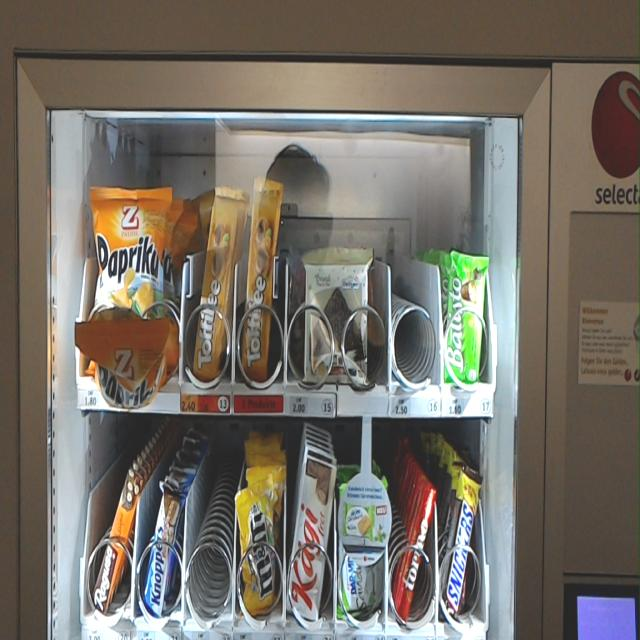balisto_muesli__37g__5000159418546: (443, 248, 485, 386)
berger_bruensli____: (302, 252, 372, 386)
darwida_sandwich____7610032065170: (337, 480, 385, 619)
kagi___50__7610046000259: (286, 458, 335, 618)
knoppers_riegel____4035800488808: (143, 486, 184, 609)
mnms_gelb__45__40111445: (235, 479, 276, 617)
ragusa___50__76401121: (92, 465, 144, 613)
snickers___50__5000159461122: (439, 469, 481, 619)
toffifee___33__4014400924275: (193, 188, 240, 378), (240, 177, 282, 377)
torino___46__76415272: (394, 488, 435, 622)
zweifel_paprika__90__7610095013002: (89, 187, 167, 357)
